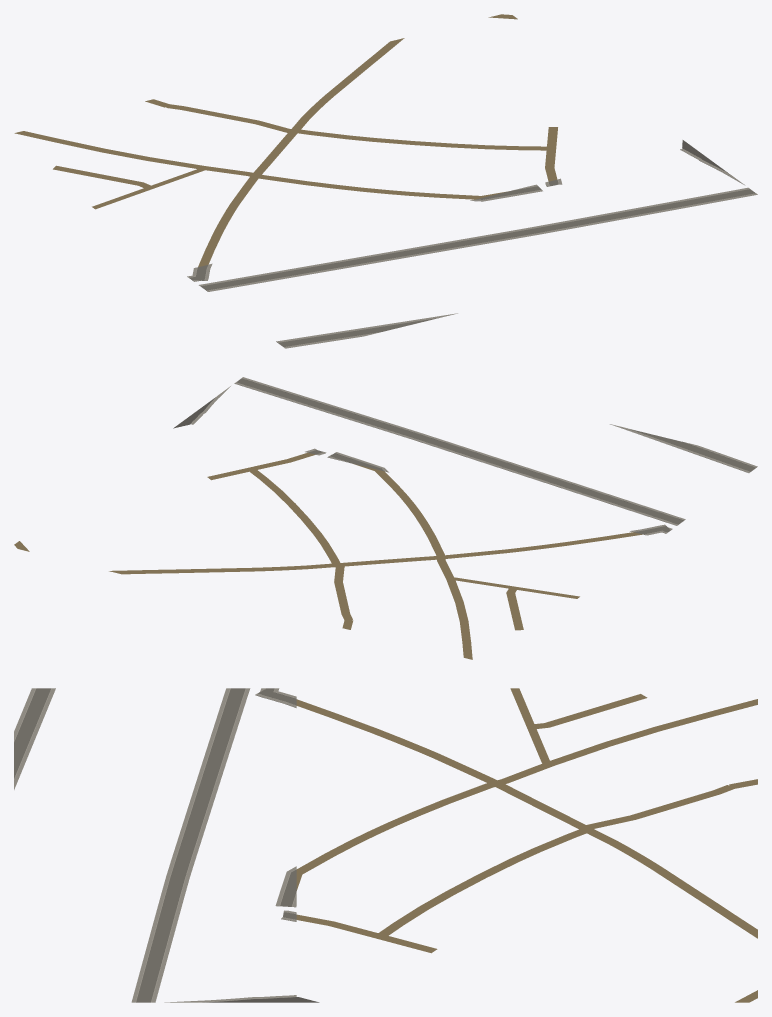
The model's file is Ulice_2_3.fbx.
The picture shows the model from 3 angles, top to bottom: view 1: azimuth 30°, elevation 25°; view 2: azimuth 150°, elevation 25°; view 3: azimuth 270°, elevation 25°; orthographic projection. The views are drawn at different scales.
Parts seen in each view (by area): view 1: Ulica_2_3, Chodnik_2_3; view 2: Ulica_2_3, Chodnik_2_3; view 3: Ulica_2_3, Chodnik_2_3.
Boxes of the visible parts, x1=… form: Ulica_2_3: x1=14, y1=14, x2=755, y2=346; Chodnik_2_3: x1=187, y1=149, x2=757, y2=348; Ulica_2_3: x1=14, y1=378, x2=755, y2=659; Chodnik_2_3: x1=191, y1=377, x2=757, y2=535; Ulica_2_3: x1=14, y1=688, x2=757, y2=1002; Chodnik_2_3: x1=14, y1=688, x2=296, y2=1002.
Size of the model in its own units: 500 by 0.16 by 500.
